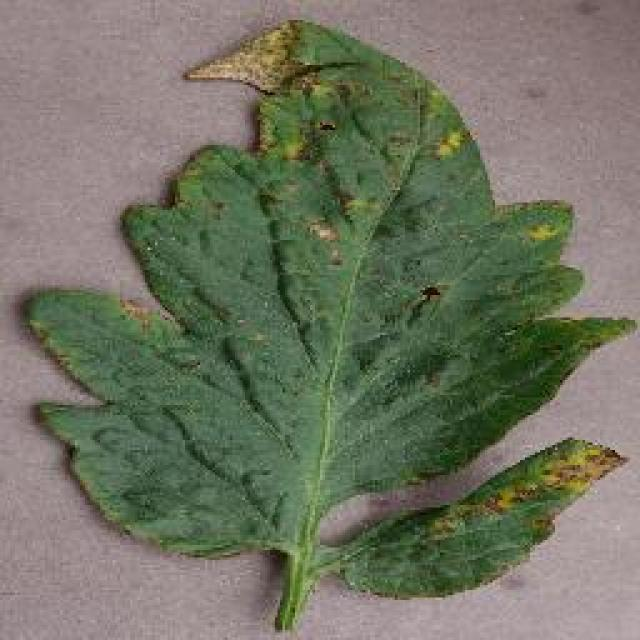Tomato___Bacterial_spot: (12, 23, 638, 635)
